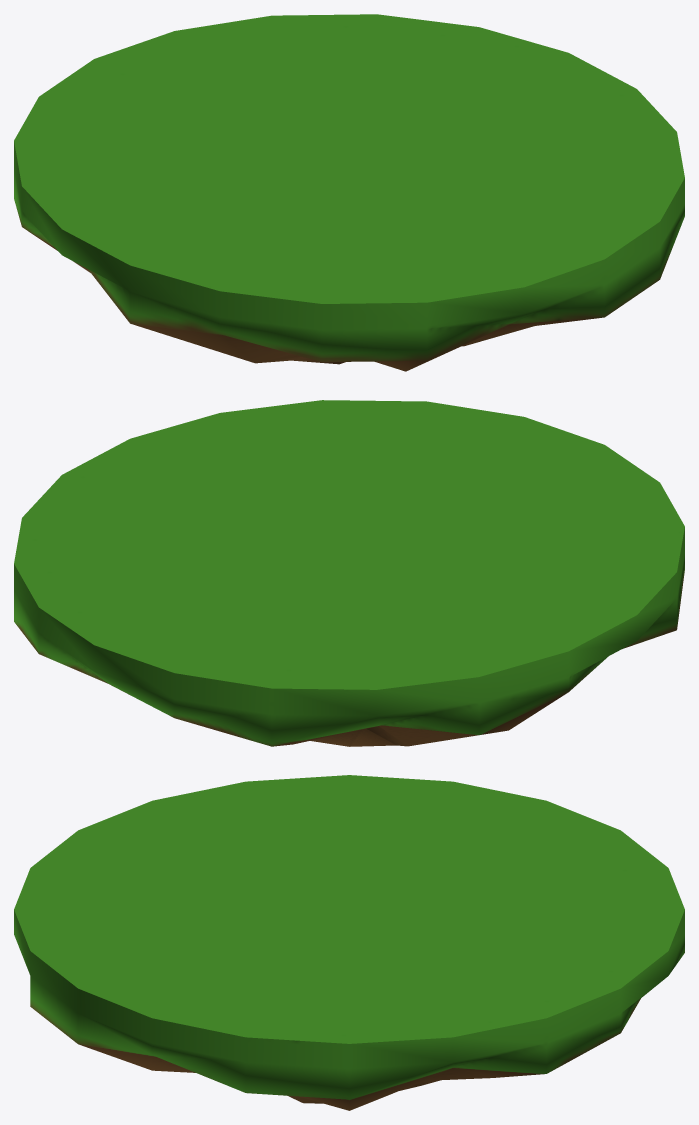
Rendered from platform.obj.
3 views of the same model, one above another, from view 1: azimuth 30°, elevation 25°; view 2: azimuth 150°, elevation 25°; view 3: azimuth 270°, elevation 25° (orthographic). The views are drawn at different scales.
Visible parts, largest first — view 1: pCylinder2; view 2: pCylinder2; view 3: pCylinder2.
Part boxes in pixels (<box>): pCylinder2: <box>14,14,684,371</box>; pCylinder2: <box>14,400,684,746</box>; pCylinder2: <box>14,775,684,1110</box>.
Bounding box in the file's own units: 7.46 × 2.5 × 7.86.
